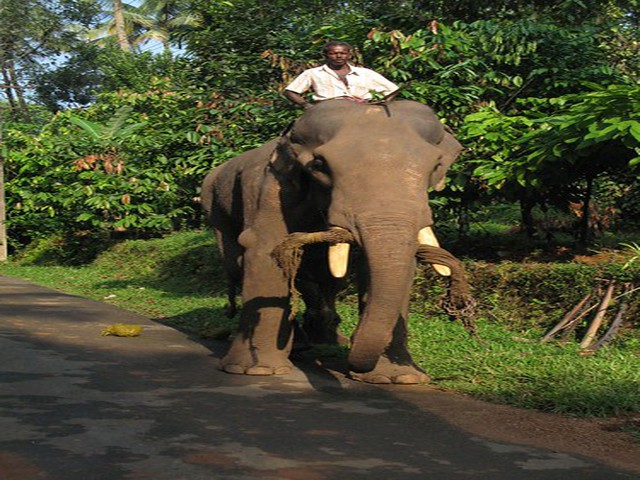Elephant: (185, 99, 473, 392)
Person: (275, 37, 400, 104)
